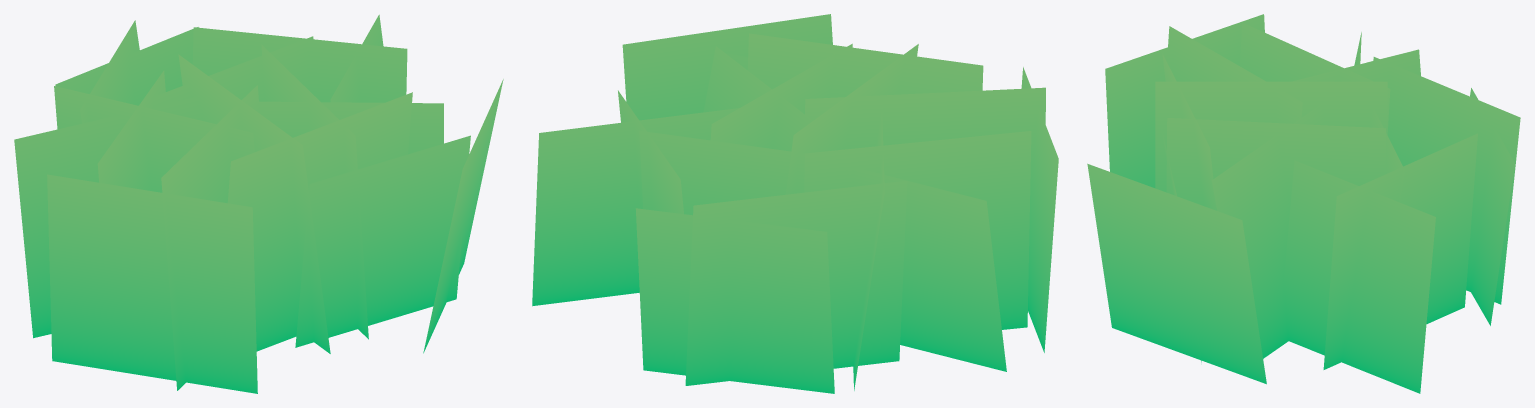
Rendered from Grass_0.6m_B_01.fbx.
3 renders of one model, left to right at view 1: azimuth 30°, elevation 25°; view 2: azimuth 150°, elevation 25°; view 3: azimuth 270°, elevation 25°, orthographic. The views are drawn at different scales.
Visible parts, largest first — view 1: Grass_0.6m_B_01; view 2: Grass_0.6m_B_01; view 3: Grass_0.6m_B_01.
Part boxes in pixels (x1,y1,x2,y2): Grass_0.6m_B_01: (14, 14, 503, 393); Grass_0.6m_B_01: (532, 14, 1058, 393); Grass_0.6m_B_01: (1087, 14, 1520, 393).
Bounding box in the file's own units: 1.29 × 0.5982 × 1.16.
